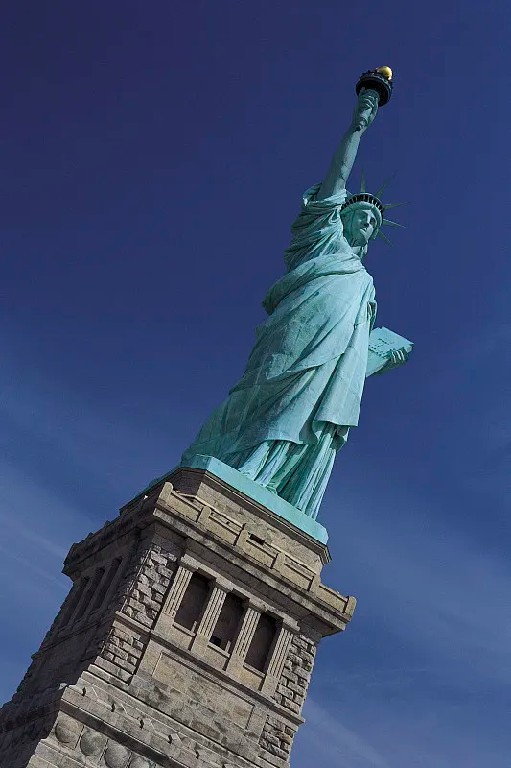SL: (1, 64, 414, 768)
